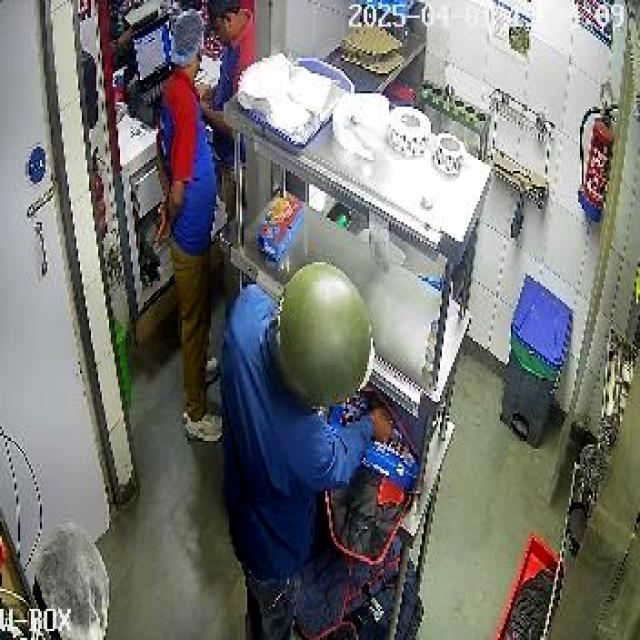helmet: (273, 260, 375, 409)
no_helmet: (171, 10, 204, 83)
